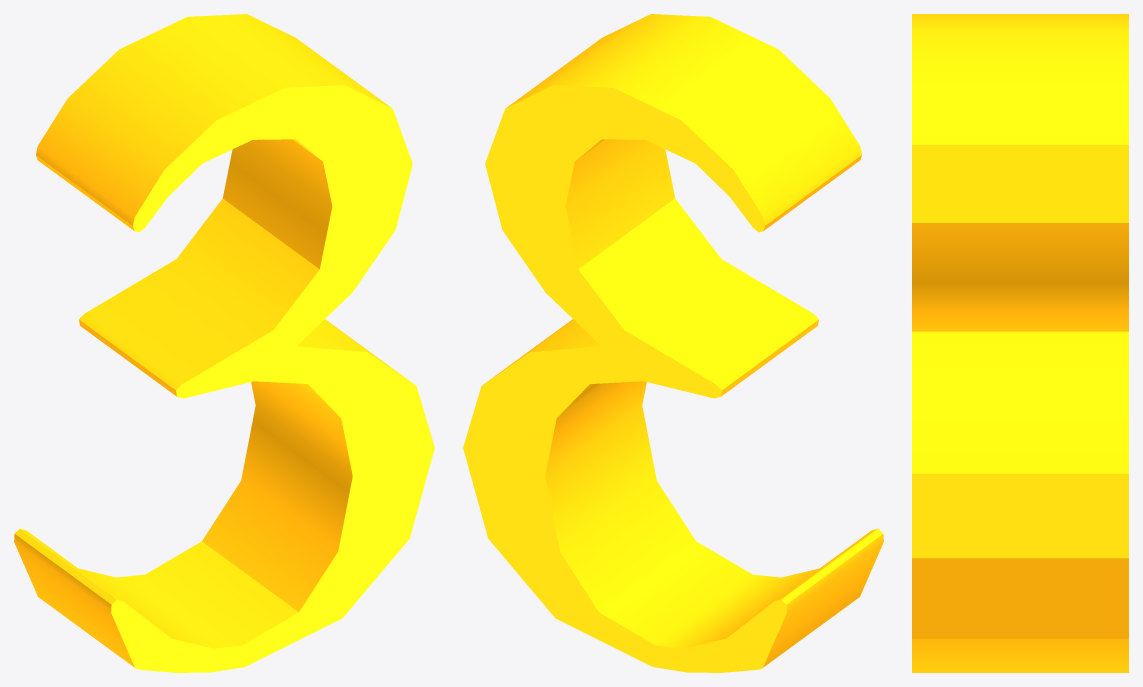
The picture shows the model from 3 angles, left to right: view 1: azimuth 30°, elevation 25°; view 2: azimuth 150°, elevation 25°; view 3: azimuth 270°, elevation 25°; orthographic projection. The views are drawn at different scales.
Parts seen in each view (by area): view 1: 3_Soul_Yellow; view 2: 3_Soul_Yellow; view 3: 3_Soul_Yellow.
Part boxes in pixels (bbox=[...]): 3_Soul_Yellow: bbox=[14, 14, 434, 672]; 3_Soul_Yellow: bbox=[463, 14, 883, 672]; 3_Soul_Yellow: bbox=[912, 14, 1128, 672].
Size of what is drawn, in the model's own units: 0.0867 by 0.1457 by 0.045.
Materials: 2 (2 with a texture image).
